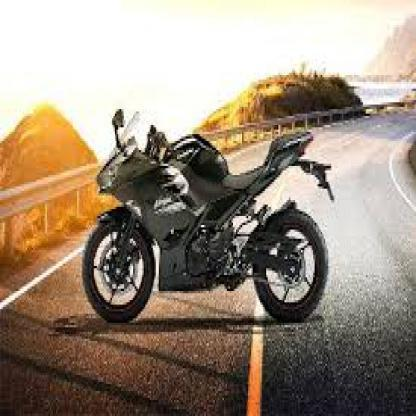Motorcycle: (80, 88, 344, 334)
